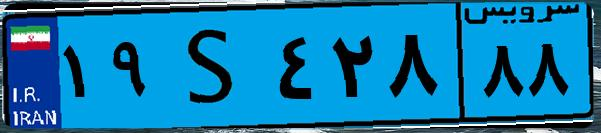1: (57, 26, 110, 100)
2: (330, 28, 385, 110)
4: (270, 28, 330, 110)
8: (385, 28, 445, 110), (475, 38, 525, 113), (525, 38, 570, 115)
9: (110, 28, 158, 98)
S: (158, 12, 270, 120)
